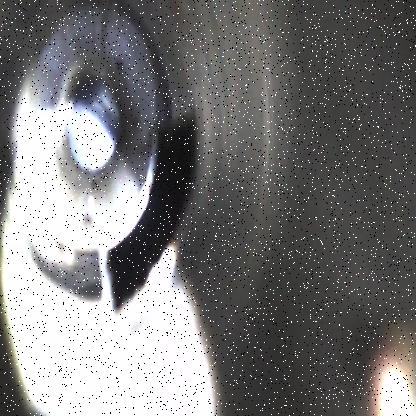Crack2: (99, 113, 206, 316)
